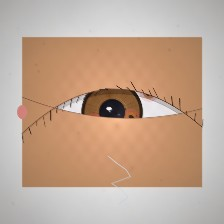foreign_body_visible: (130, 77, 168, 108)
